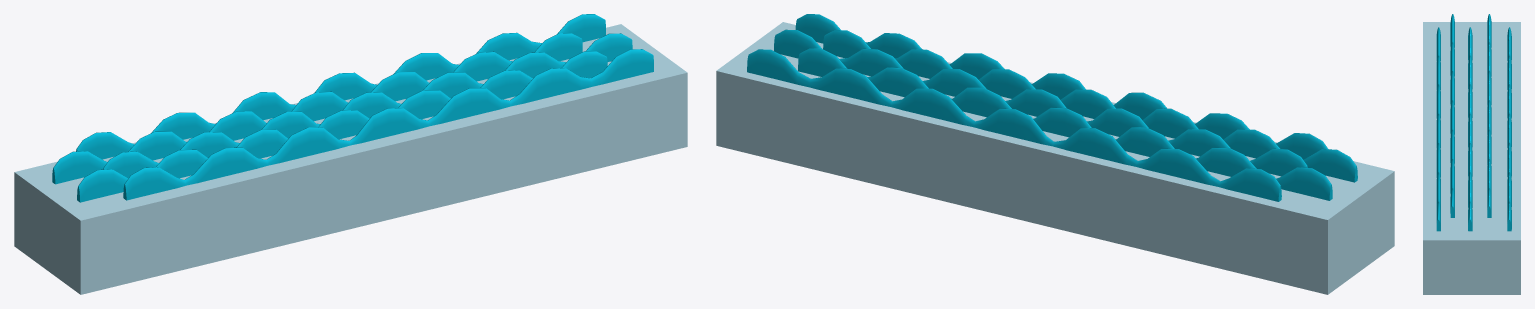
File: Eau.fbx
3 renders of one model, left to right at view 1: azimuth 30°, elevation 25°; view 2: azimuth 150°, elevation 25°; view 3: azimuth 270°, elevation 25°, orthographic. The views are drawn at different scales.
Visible parts, largest first — view 1: Eau, vague5, vague2, vague, vague4, vague3; view 2: Eau, vague, vague2, vague4, vague3, vague5; view 3: Eau, vague, vague3, vague2, vague4, vague5.
Part boxes in pixels (x1,y1,x2,y2): Eau: (14, 24, 687, 294); vague5: (123, 49, 653, 200); vague2: (52, 33, 582, 184); vague: (76, 14, 605, 159); vague4: (77, 51, 607, 202); vague3: (103, 33, 632, 178); Eau: (716, 22, 1394, 294); vague: (747, 49, 1281, 201); vague2: (798, 48, 1332, 200); vague4: (823, 30, 1357, 182); vague3: (774, 29, 1307, 176); vague5: (795, 14, 1328, 159); Eau: (1423, 22, 1520, 294); vague: (1507, 27, 1511, 231); vague3: (1468, 27, 1472, 231); vague2: (1487, 14, 1491, 217); vague4: (1450, 14, 1454, 217); vague5: (1436, 27, 1440, 231).
Size of what is drawn, in the model's own units: 94.59 by 15.11 by 17.92.
